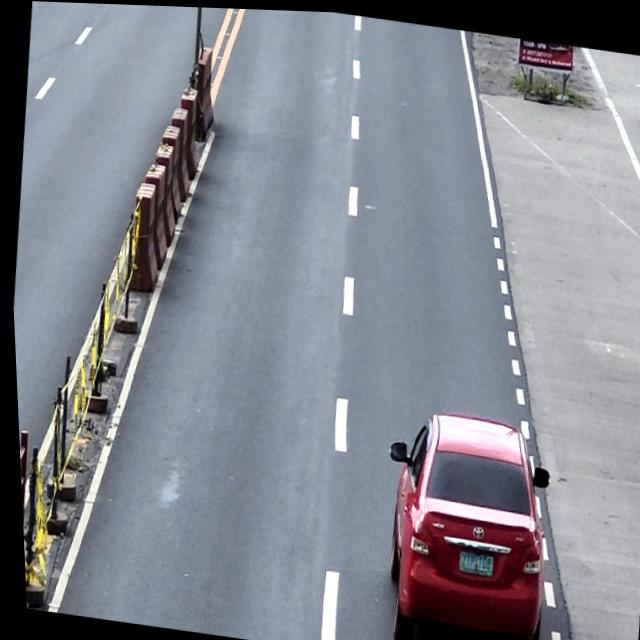Car: (362, 399, 557, 640)
License-Plate: (450, 542, 491, 575)
